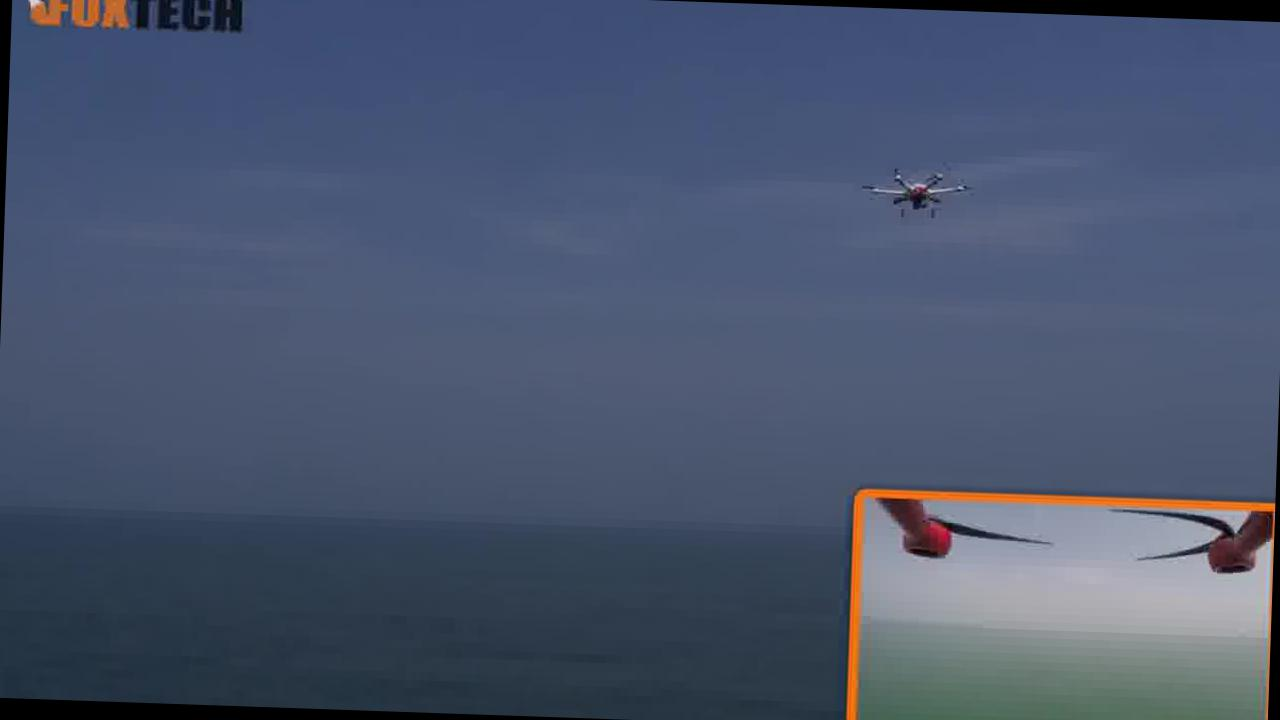drone: (860, 148, 984, 243)
